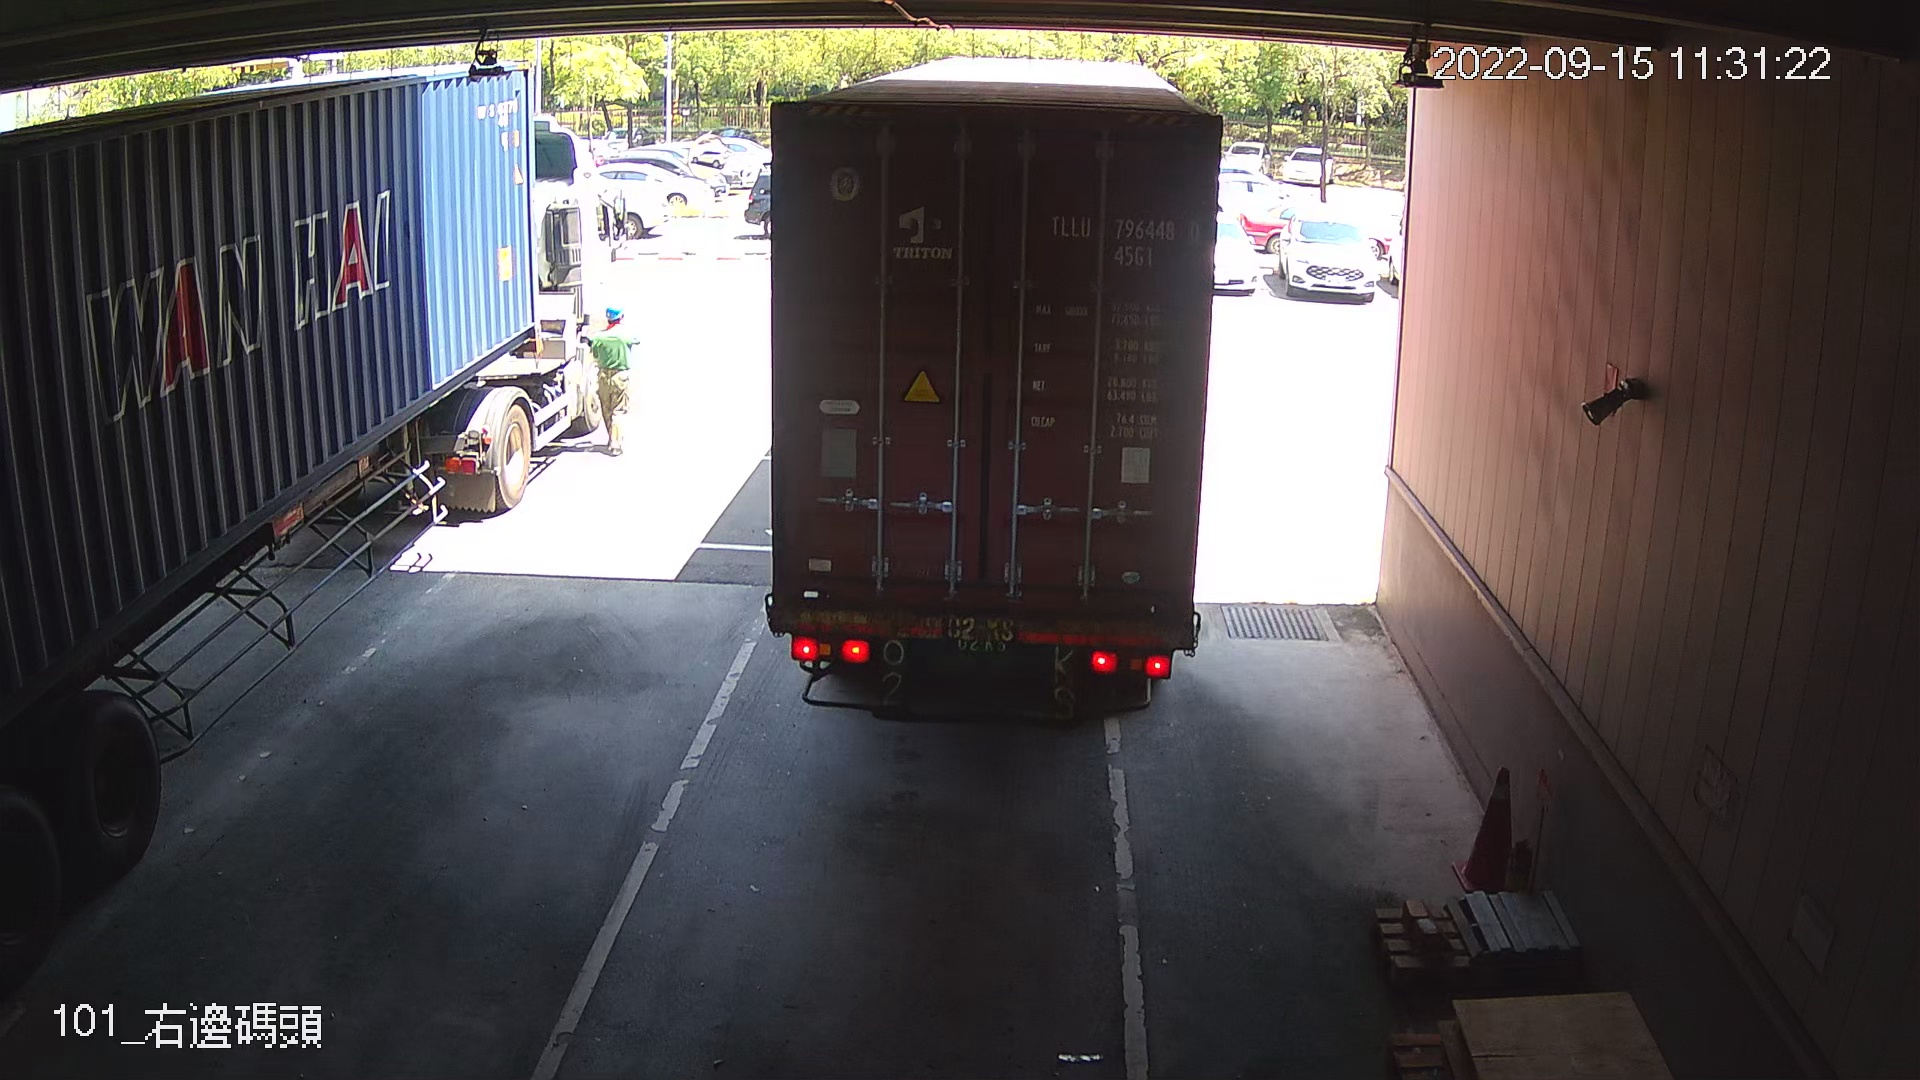container: (1042, 204, 1204, 273)
